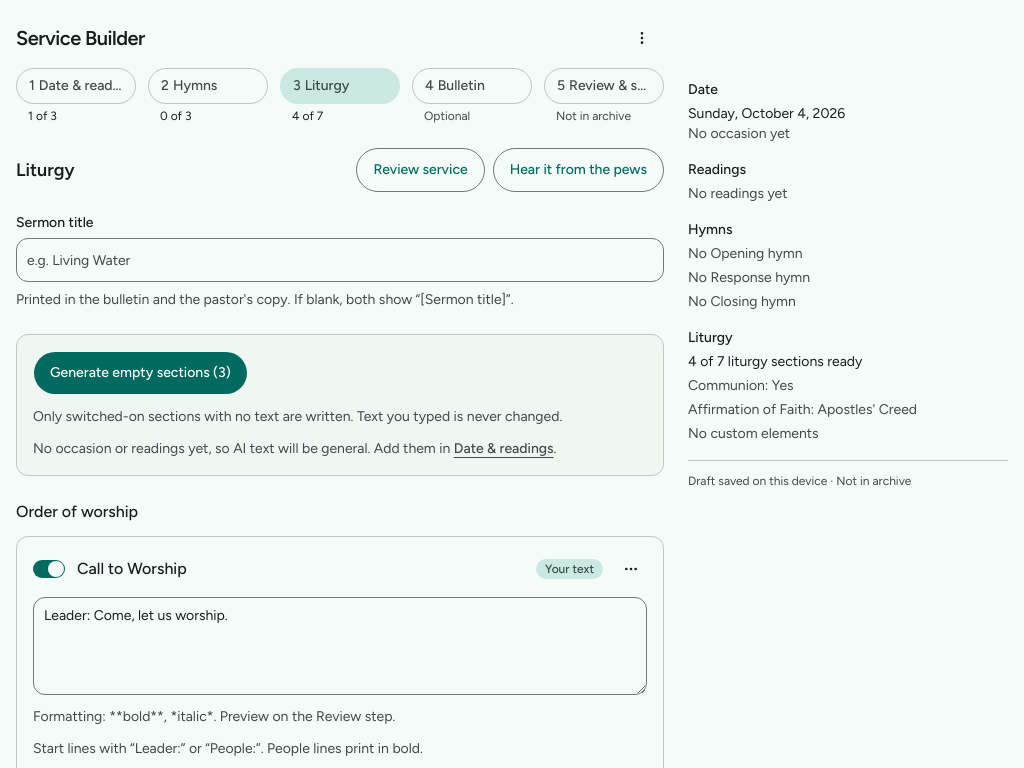
Scenario: Hear it from the pews (pew voices spec) › says Still working after 8 s with no em dash, and Cancel stops the wait and keeps focus on the button
The width and height of the screenshot is (1024, 768).
Click the button "Hear it from the pews" at (578, 170), box x1=493 y1=148 x2=664 y2=192
Wait 8000 ms
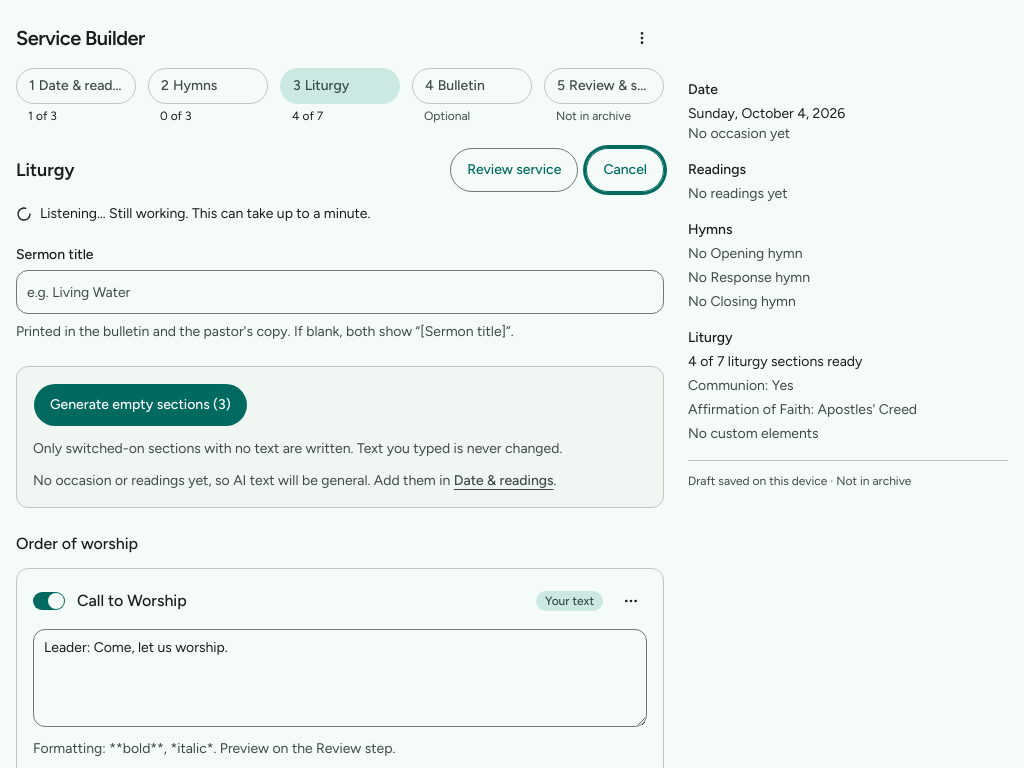
Result: the button with aria-label "Cancel hearing from the pews" reads "Cancel"
Click the button with aria-label "Cancel hearing from the pews" at (625, 170), box x1=586 y1=148 x2=664 y2=192
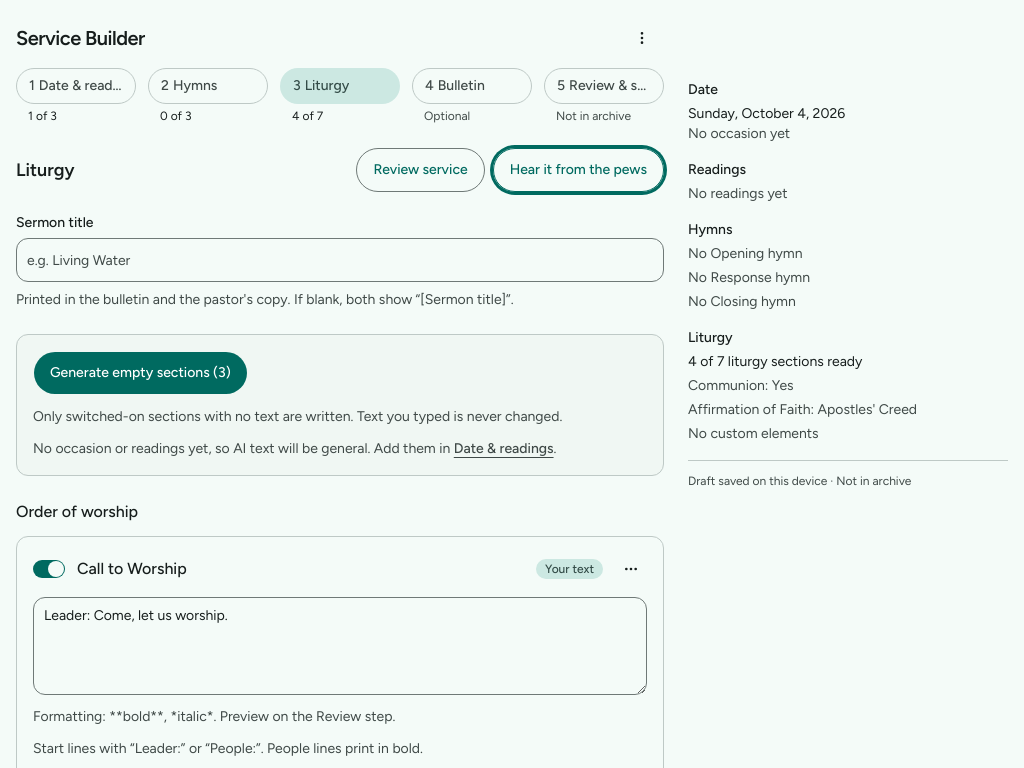
Result: the text "Listening…" is gone
